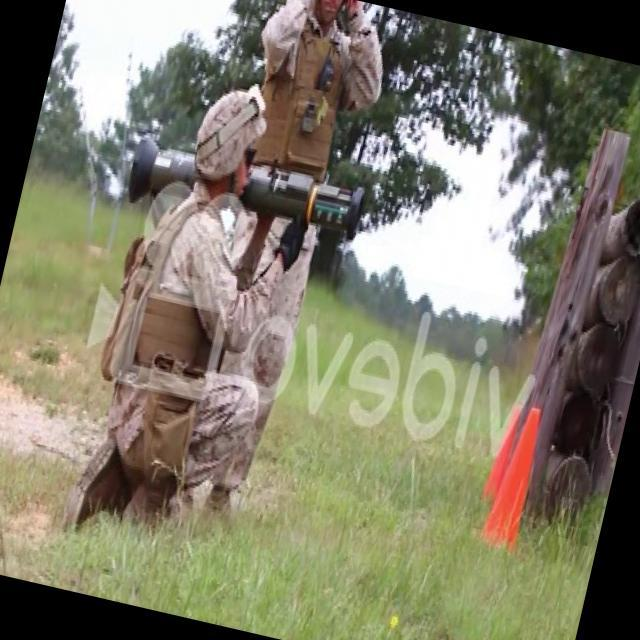rocket: (124, 130, 370, 250)
